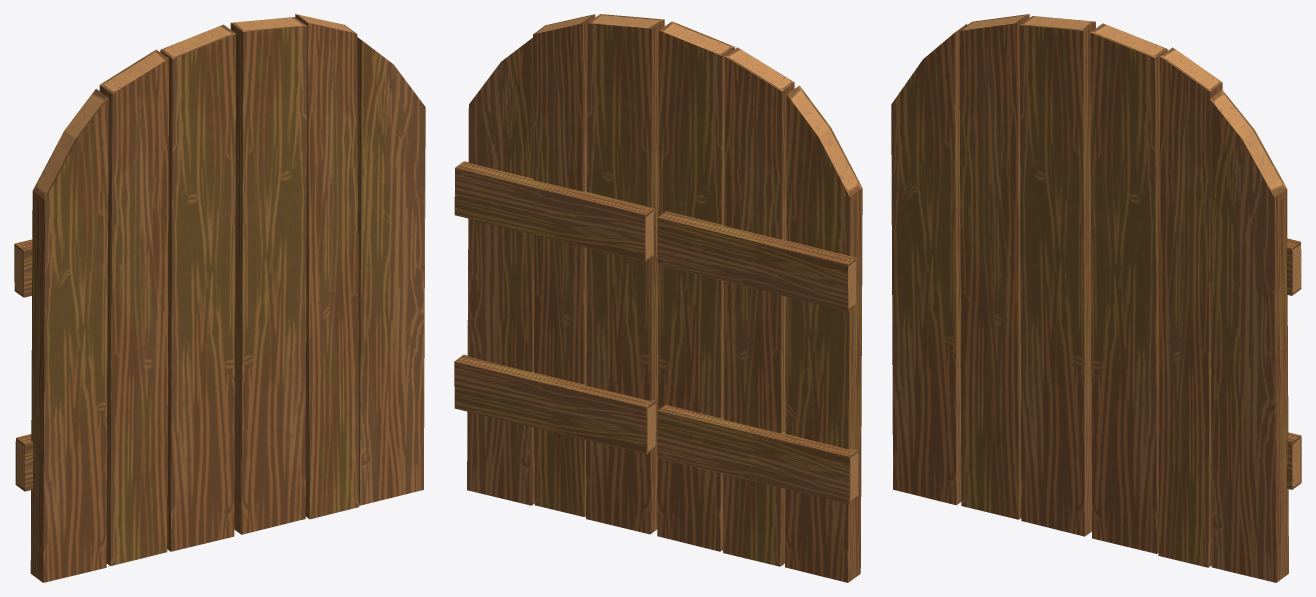
Rendered from WindowShutters_Wide_Round_Closed.gltf.
The picture shows the model from 3 angles, left to right: view 1: azimuth 30°, elevation 25°; view 2: azimuth 150°, elevation 25°; view 3: azimuth 330°, elevation 25°; orthographic projection.
Parts seen in each view (by area): view 1: WindowShutters_Wide_Round_Closed; view 2: WindowShutters_Wide_Round_Closed; view 3: WindowShutters_Wide_Round_Closed.
Part boxes in pixels (x1,y1,x2,y2): WindowShutters_Wide_Round_Closed: (14, 14, 425, 582); WindowShutters_Wide_Round_Closed: (454, 14, 862, 582); WindowShutters_Wide_Round_Closed: (891, 14, 1301, 582).
Bounding box in the file's own units: 1.35 × 1.65 × 0.1358.
1 material, 1 textured.
